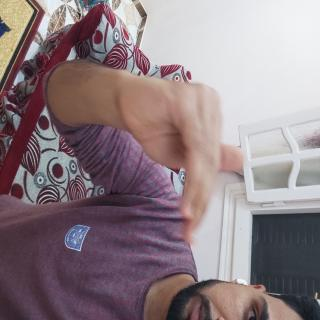KHAA: (46, 94, 188, 282)
